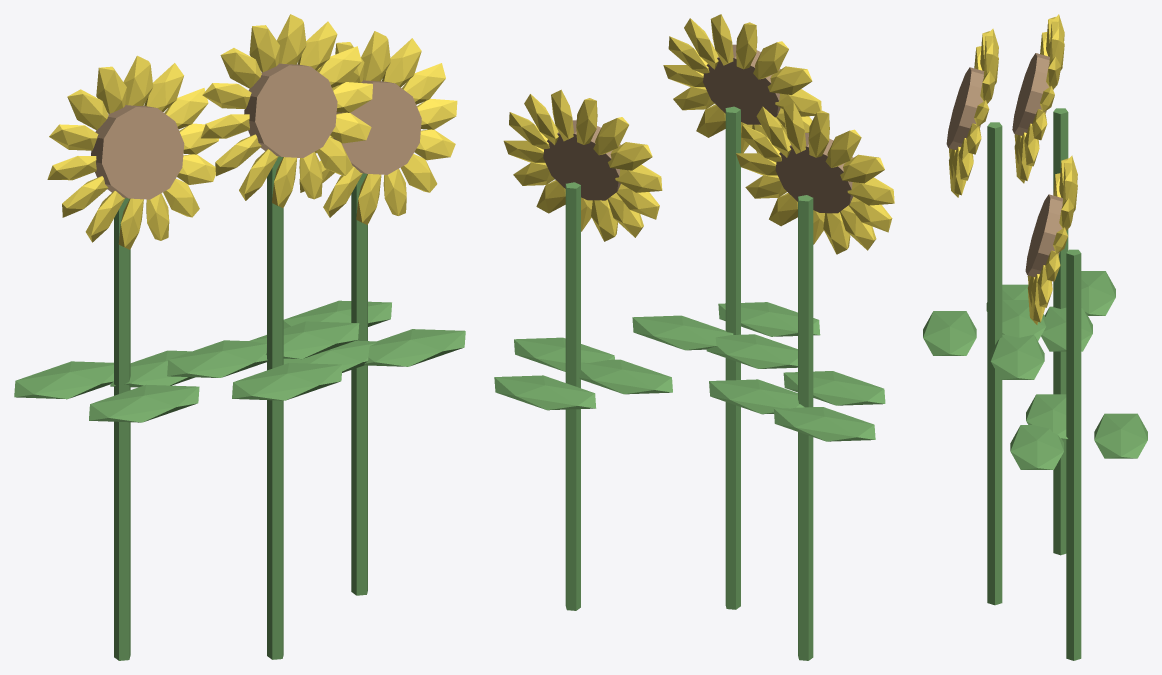
File: himawari.glb
The picture shows the model from 3 angles, left to right: view 1: azimuth 30°, elevation 25°; view 2: azimuth 150°, elevation 25°; view 3: azimuth 270°, elevation 25°; orthographic projection. The views are drawn at different scales.
Parts seen in each view (by area): view 1: himawari; view 2: himawari; view 3: himawari.
Part boxes in pixels (x1,y1,x2,y2): himawari: [14, 14, 465, 660]; himawari: [494, 14, 894, 660]; himawari: [923, 14, 1147, 660].
Bounding box in the file's own units: 1.64 × 2.37 × 0.855.
